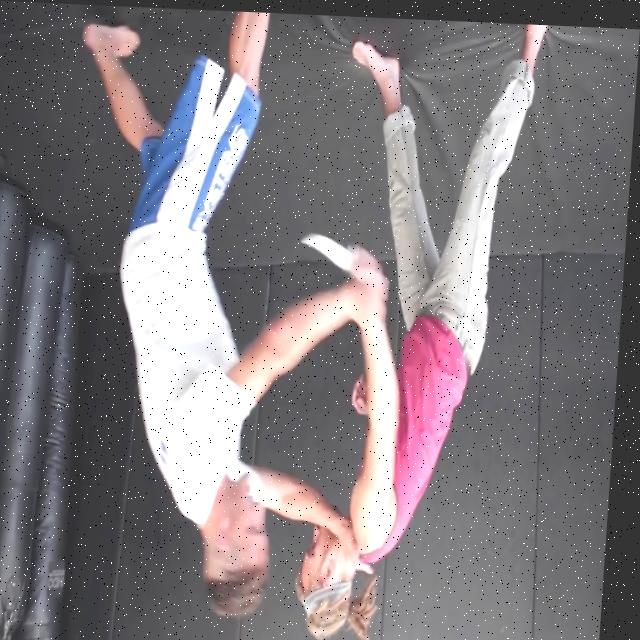knife: (301, 229, 356, 267)
